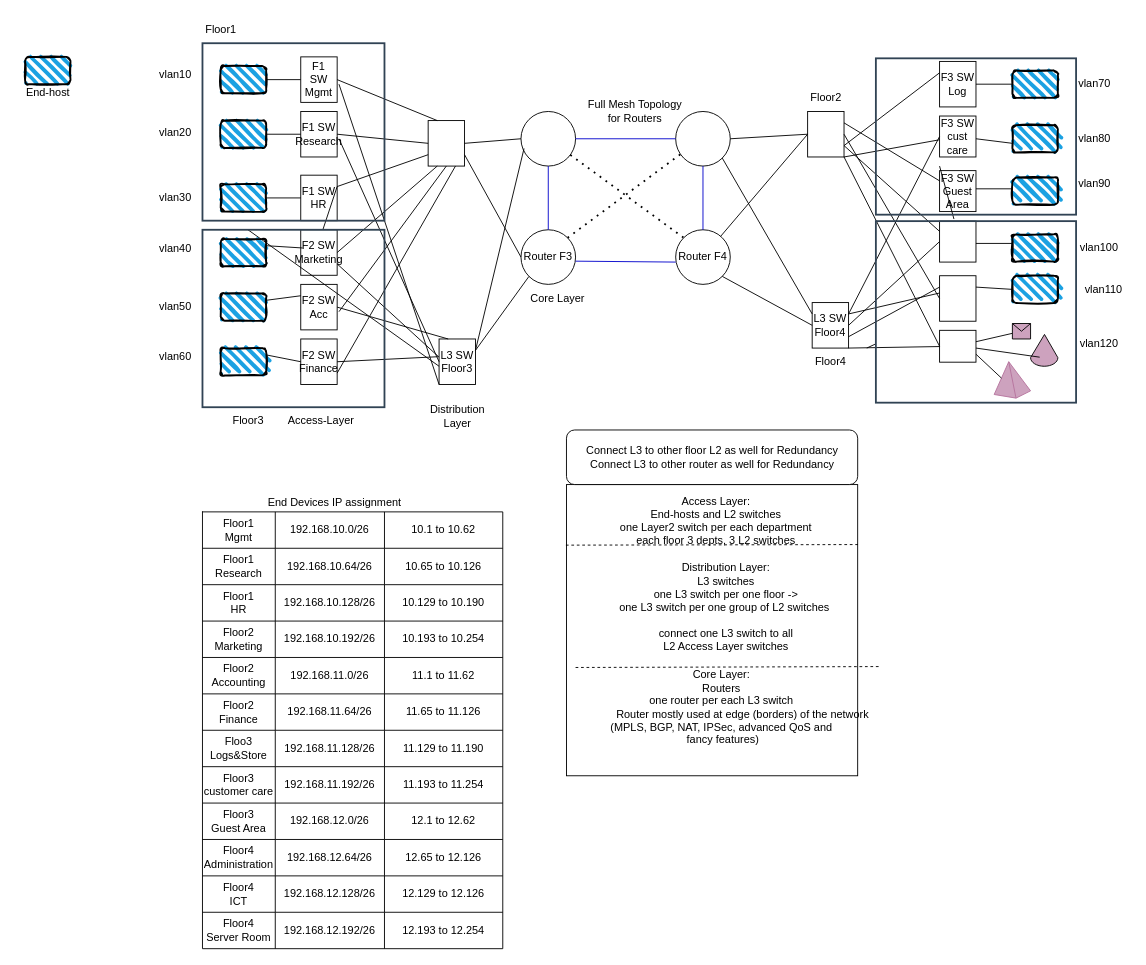
Some shapes in this 1146 by 965 pixel diagram are drawn without their labels. Here are the shapes that lost their labels. From the top down, the centre of each, then its label:
At pixel 446 143: "L3 SW Floor1".
At pixel 548 138: "Router F1".
At pixel 702 138: "Router F2".
At pixel 825 134: "L3 SW Floor2".
At pixel 957 241: "F4 SW Admin".
At pixel 957 298: "F4 SW ICT".
At pixel 957 345: "F4 SW Server Room".
